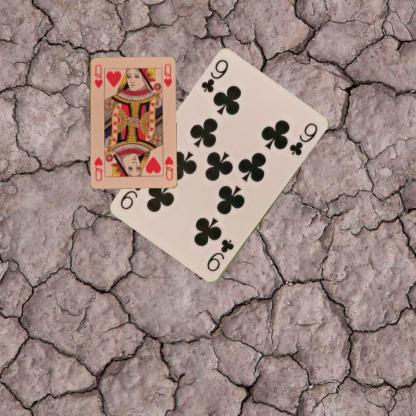9c: (198, 56, 230, 94), (203, 237, 236, 273)
Qh: (162, 152, 174, 182), (91, 62, 104, 89)
